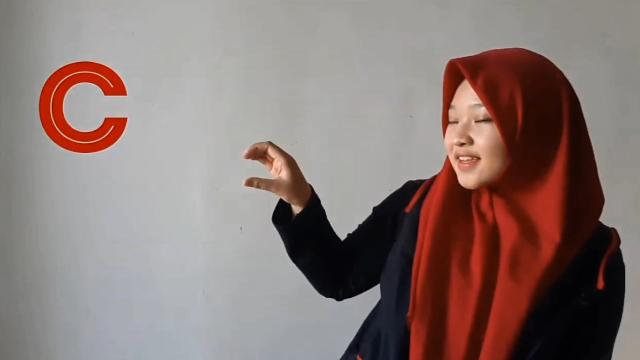C: (238, 138, 308, 206)
